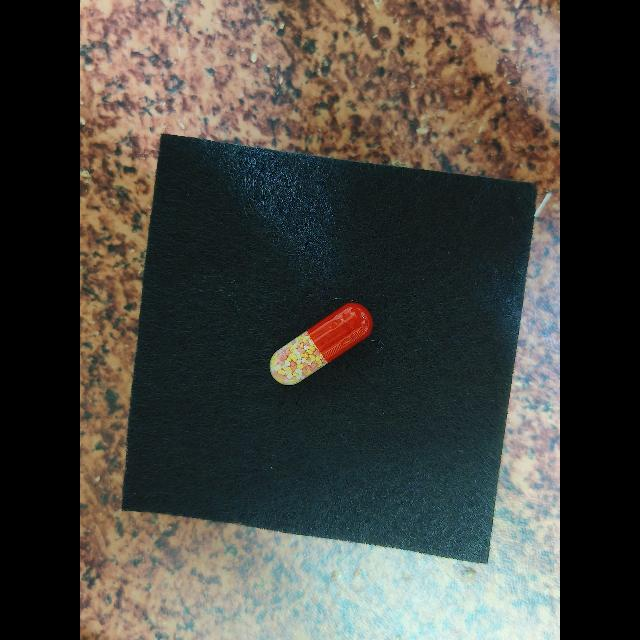Intact Capsule: (269, 303, 373, 385)
